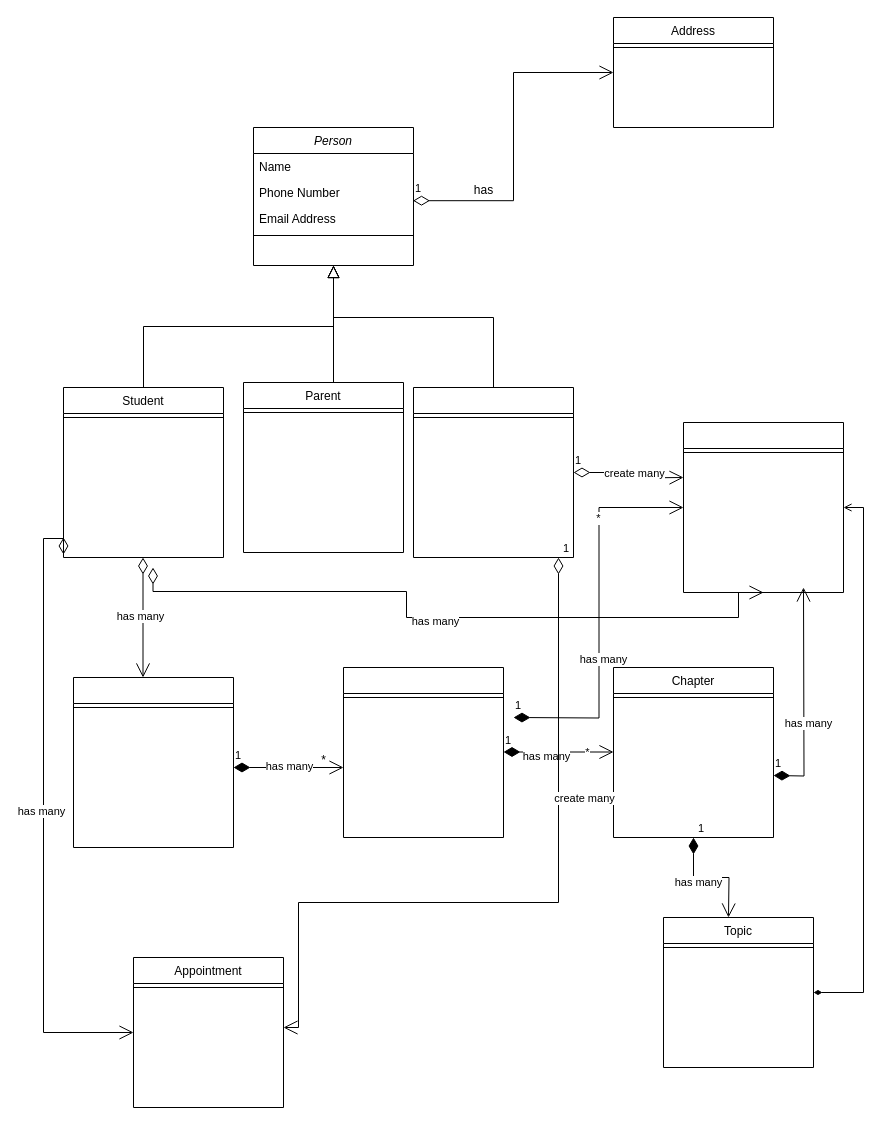
Some shapes in this 890 by 1125 pixel diagram are drawn without their labels. The centre of each missing label's shape, as x and y in pixels:
"Subject" belongs at (x=423, y=752).
"Syllabus" belongs at (x=153, y=762).
"Teacher" belongs at (x=493, y=472).
"Test" belongs at (x=763, y=507).
